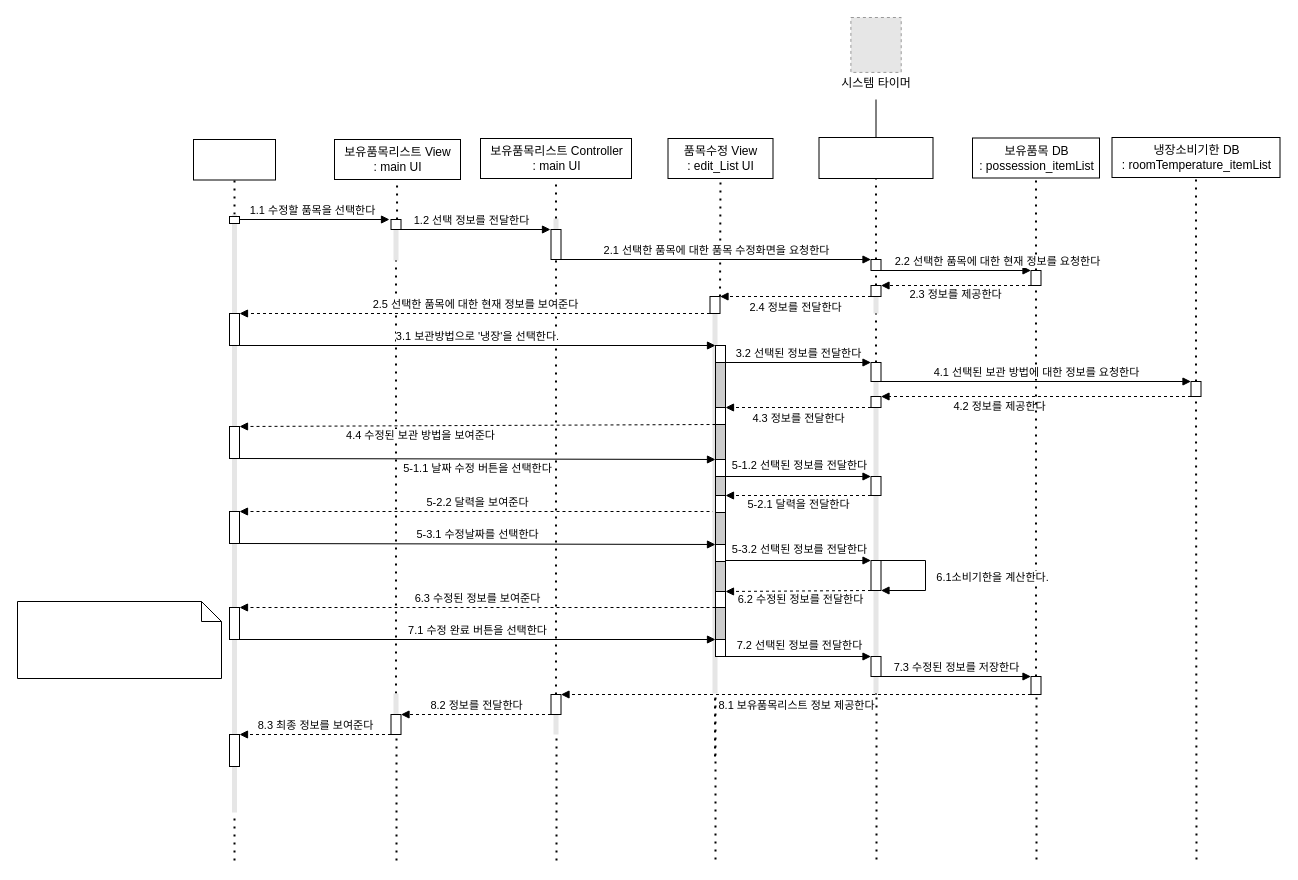
This 1298x880 diagram has some shape labels left out. Grey dashed boxes stand in for pictures. Each missing label, with the centre of its shape:
"7A. 사용자가 취소버튼을 누를 경우, 시스템이 '수정을 취소하시겠습니까?' 라는 팝업창을 보여준다" belongs at pixel 119 639.
"USER" belongs at pixel 234 159.
"품목수정 Controller" belongs at pixel 875 157.
